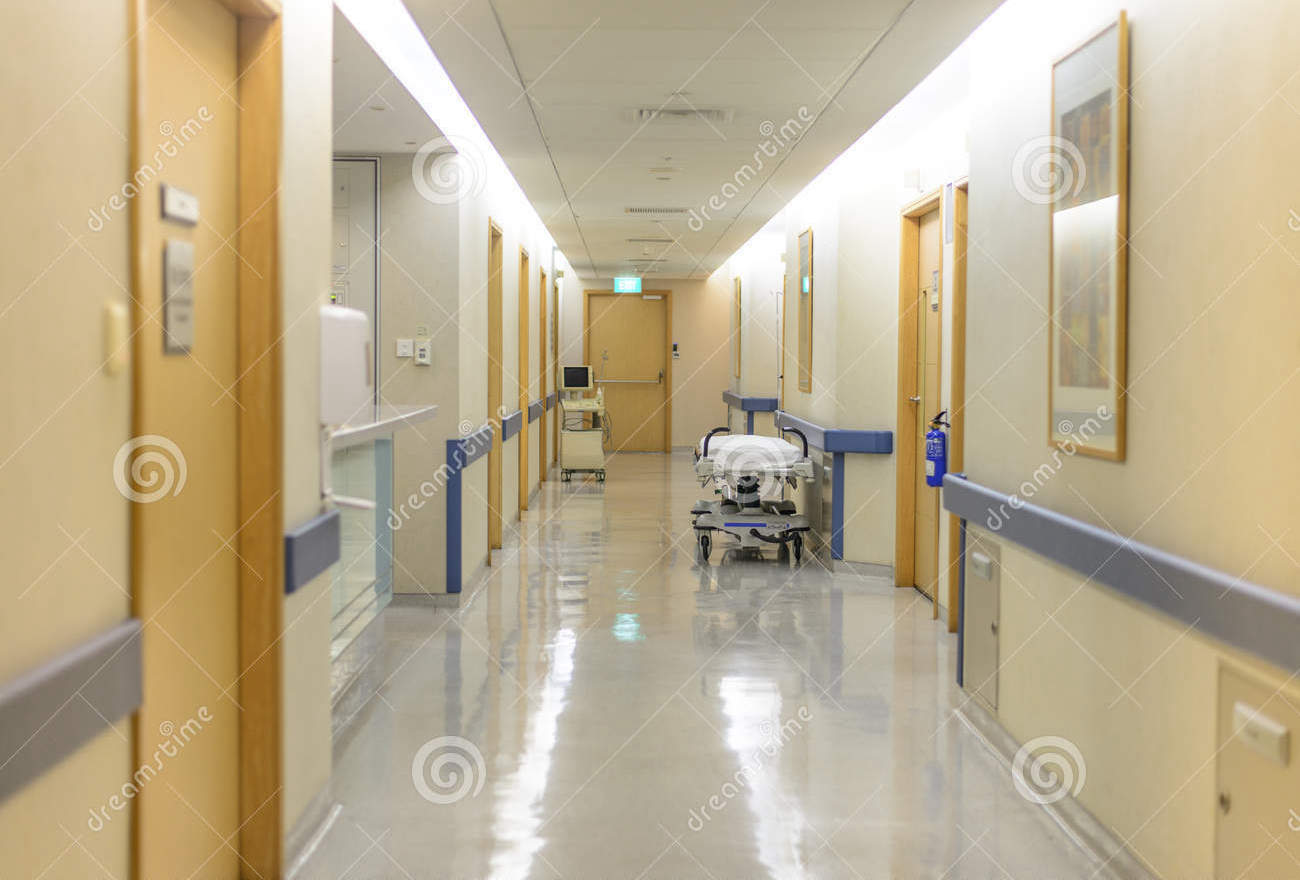bedside_monitor: (561, 365, 593, 390)
dispenser: (313, 306, 370, 429)
door_handle: (908, 396, 922, 403)
hallway_assist_bar: (944, 468, 1300, 707), (1, 644, 154, 779), (777, 407, 879, 458), (280, 512, 342, 584), (726, 383, 774, 420), (447, 429, 488, 472), (543, 386, 560, 425), (527, 397, 544, 436), (503, 411, 520, 449)
hospital_bed: (687, 419, 817, 568)
push_latch: (593, 372, 664, 386)
